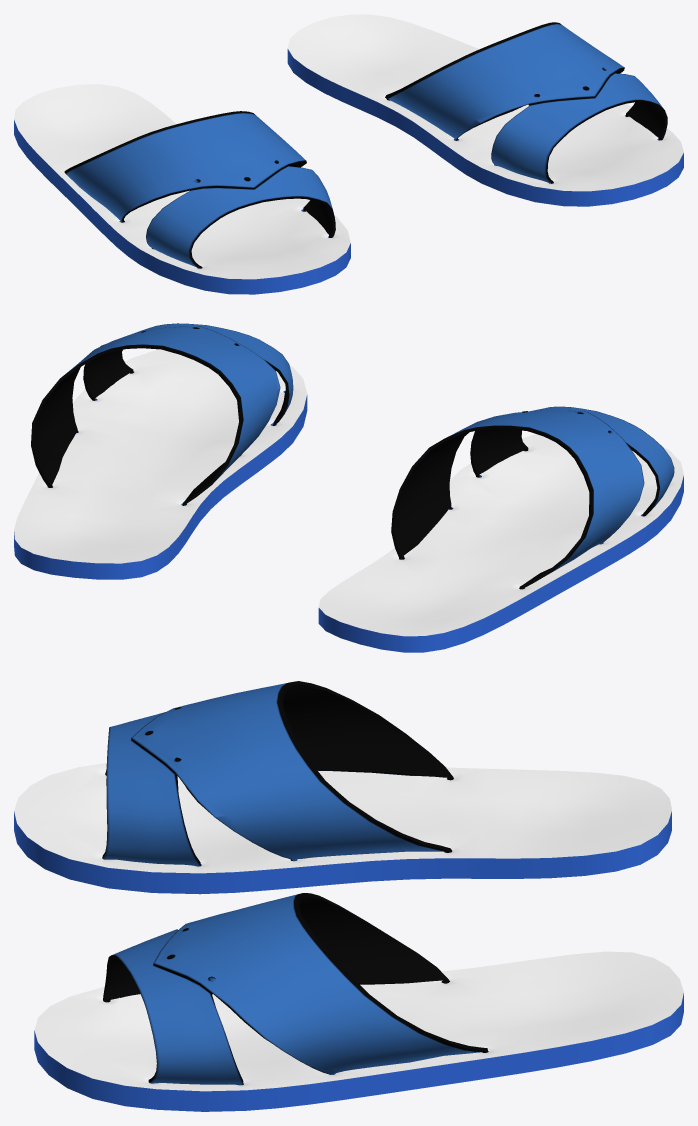
The model's file is sandalias.glb.
3 views of the same model, one above another, from view 1: azimuth 30°, elevation 25°; view 2: azimuth 150°, elevation 25°; view 3: azimuth 270°, elevation 25° (orthographic). The views are drawn at different scales.
Parts seen in each view (by area): view 1: Cube, Cube.001, 圓柱體, 圓柱體.001; view 2: Cube, Cube.001, 圓柱體.001, 圓柱體; view 3: Cube.001, Cube, 圓柱體.001, 圓柱體.
Part boxes in pixels (bbox=[...]): Cube: bbox=[287, 14, 683, 206]; Cube.001: bbox=[14, 84, 350, 294]; 圓柱體: bbox=[385, 22, 667, 183]; 圓柱體.001: bbox=[64, 111, 335, 268]; Cube: bbox=[14, 349, 307, 579]; Cube.001: bbox=[318, 434, 683, 652]; 圓柱體.001: bbox=[391, 406, 674, 589]; 圓柱體: bbox=[31, 323, 293, 505]; Cube.001: bbox=[14, 763, 671, 894]; Cube: bbox=[34, 951, 683, 1111]; 圓柱體.001: bbox=[102, 681, 453, 866]; 圓柱體: bbox=[103, 893, 488, 1085].
Bounding box in the file's own units: 4.16 × 0.7805 × 3.51.
